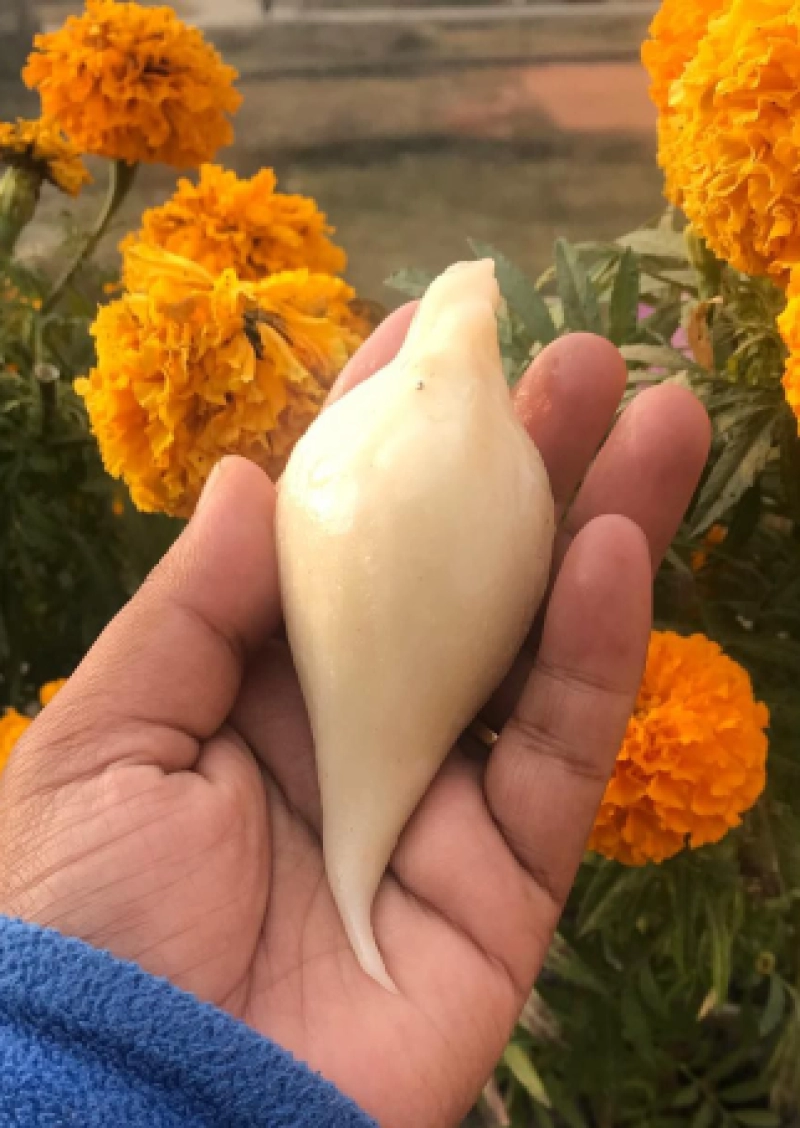yomari: (268, 245, 540, 997)
